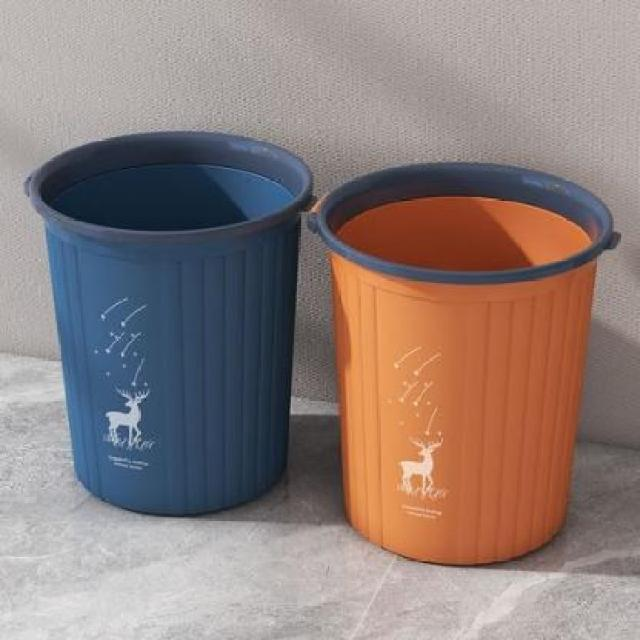dustbin: (304, 157, 624, 569), (20, 128, 320, 522)
